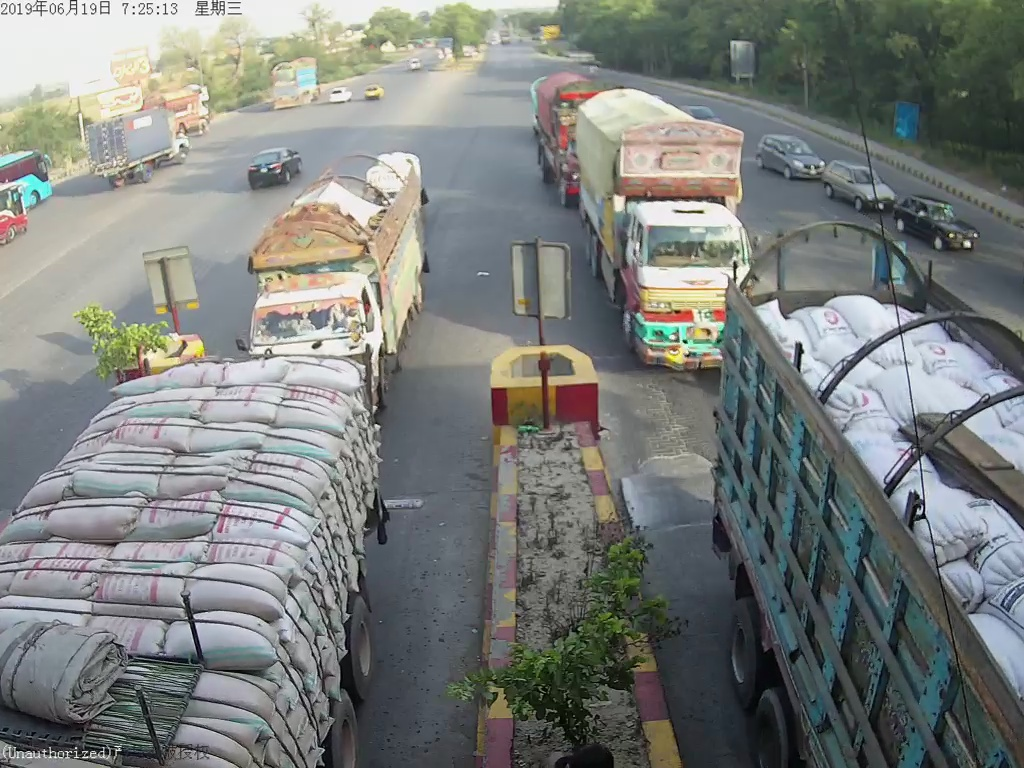Cat-4: (574, 93, 725, 371), (250, 159, 436, 352)
